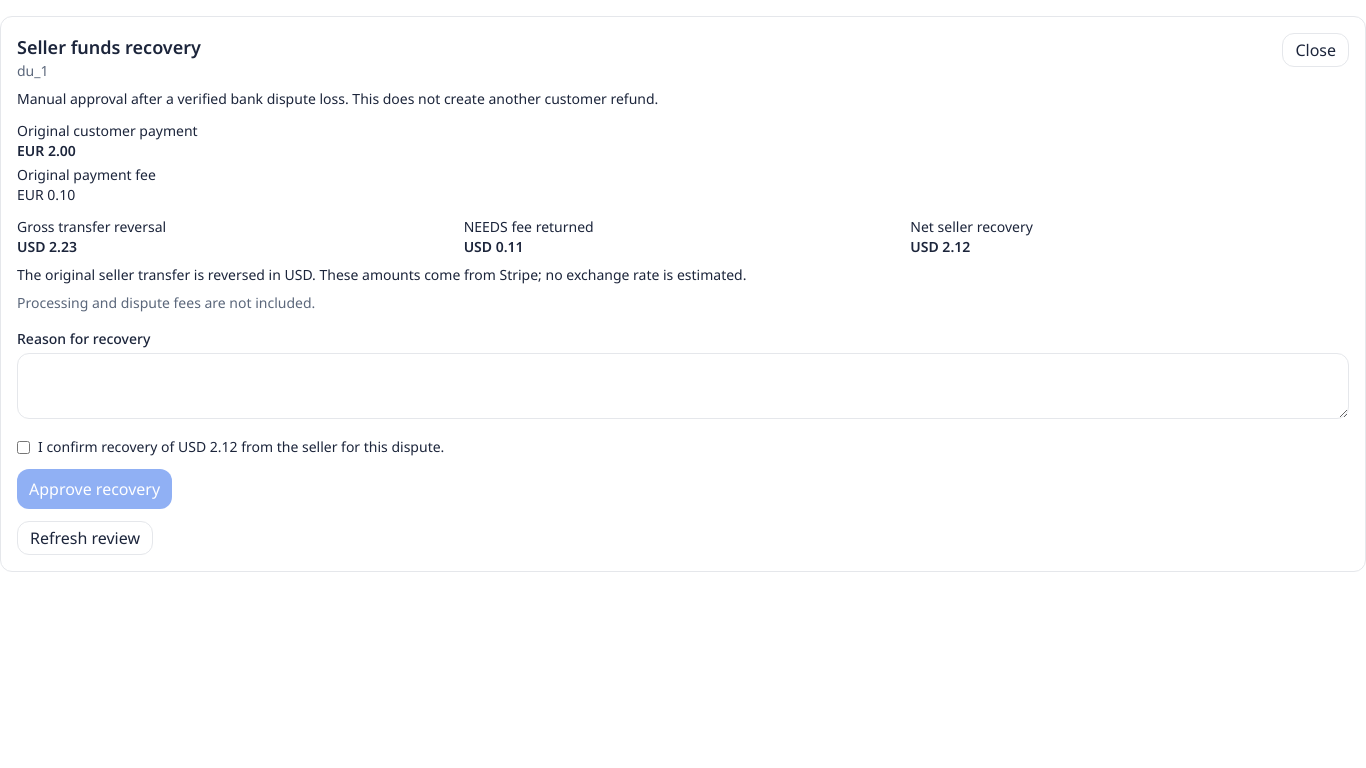
Test case: admin-approved seller recovery › approves the exact USD seller settlement independently from the original EUR payment
Expected: the text "USD 2.23" is shown, [17,237,77,256]
Expected: the text "USD 0.11" is shown, [464,237,524,256]
Type "Verified original seller transfer" into the text box labelled "Reason for recovery". click: (683, 386)
box: [17,353,1349,419]
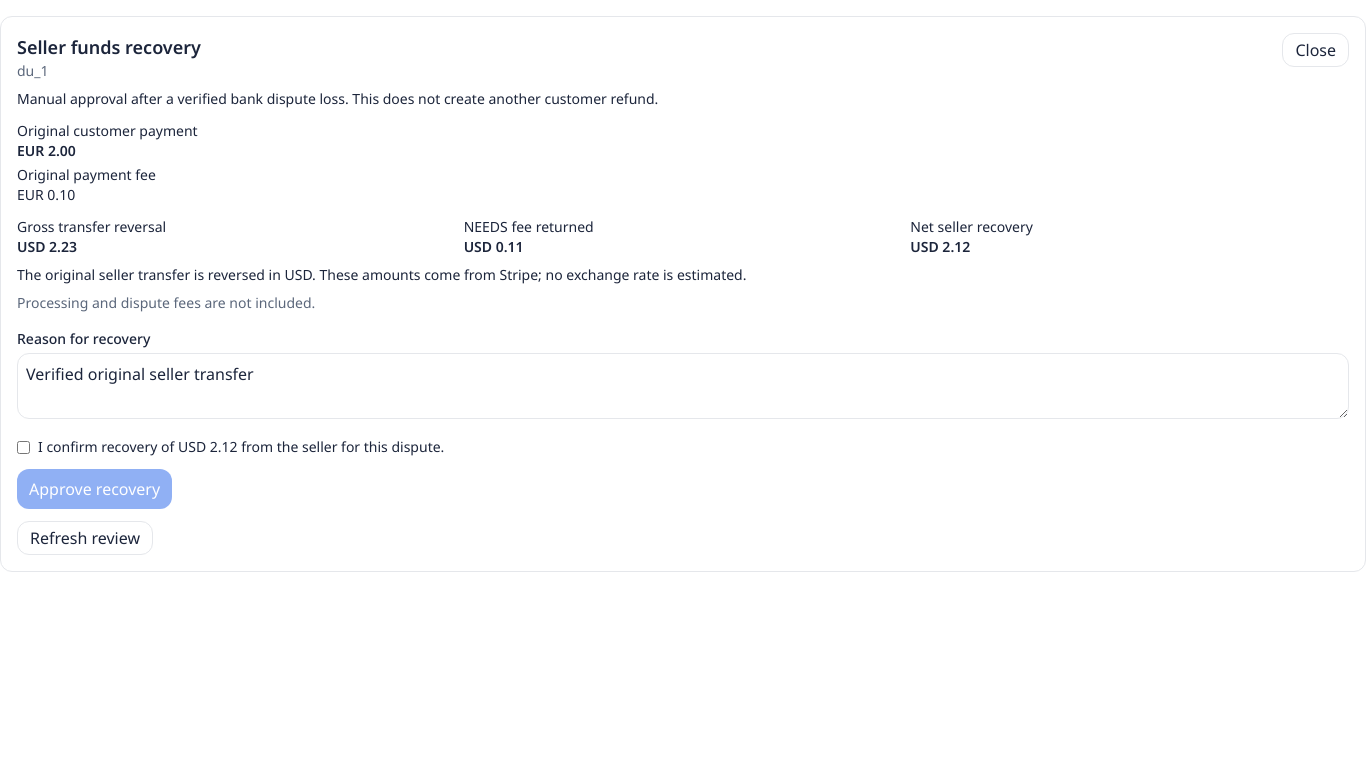
Click the checkbox. click: (24, 448)
box: [17,441,30,454]
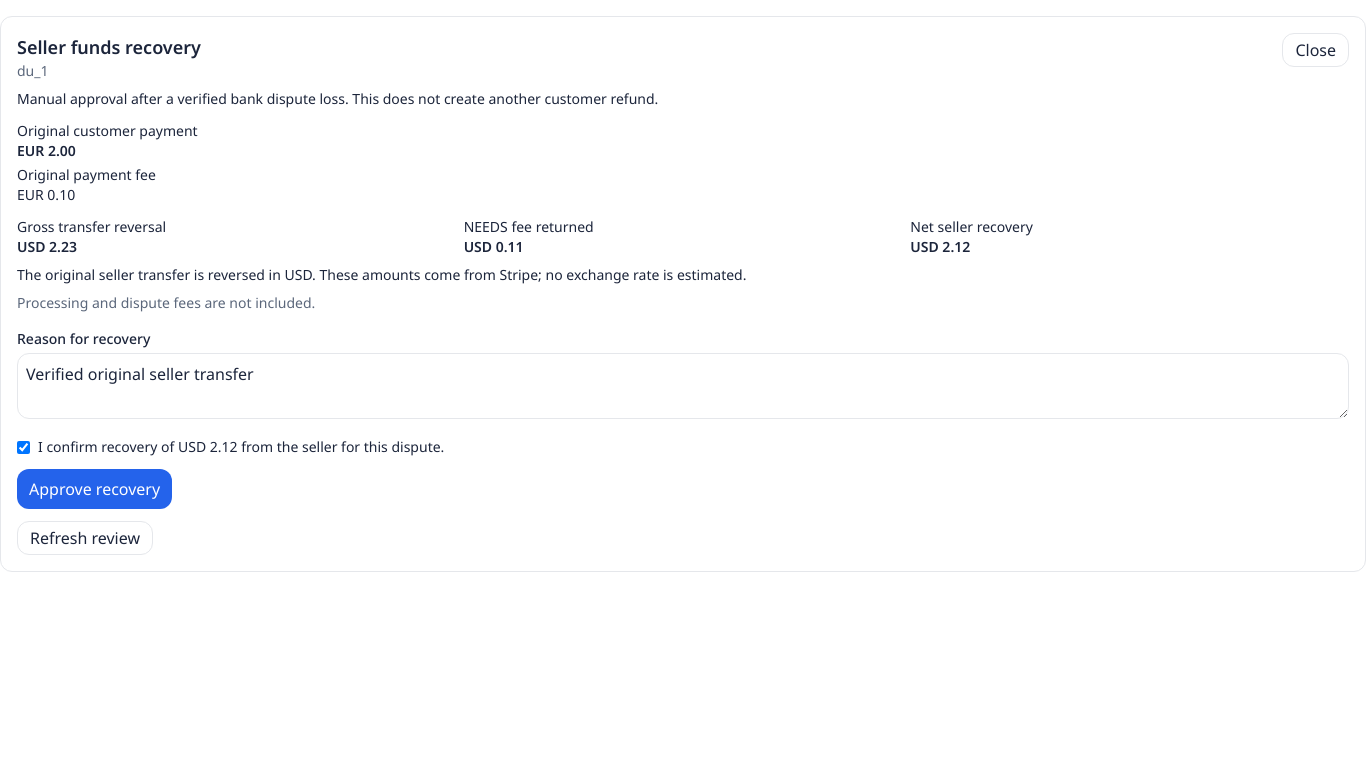
Now the button "Approve recovery" is enabled
Click the button "Approve recovery". click: (95, 489)
box: [17,469,172,509]
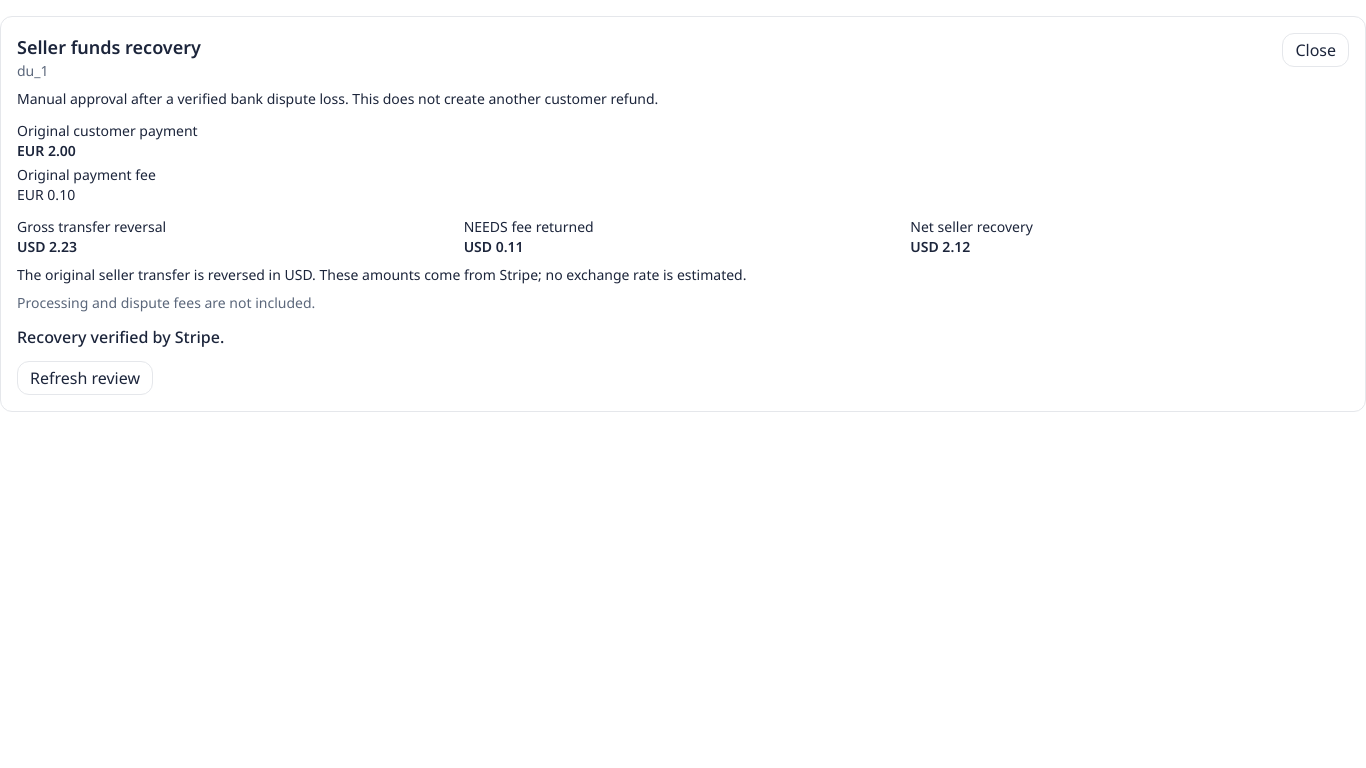
Now the message reads "Recovery verified by Stripe.", box [17,326,224,348]
